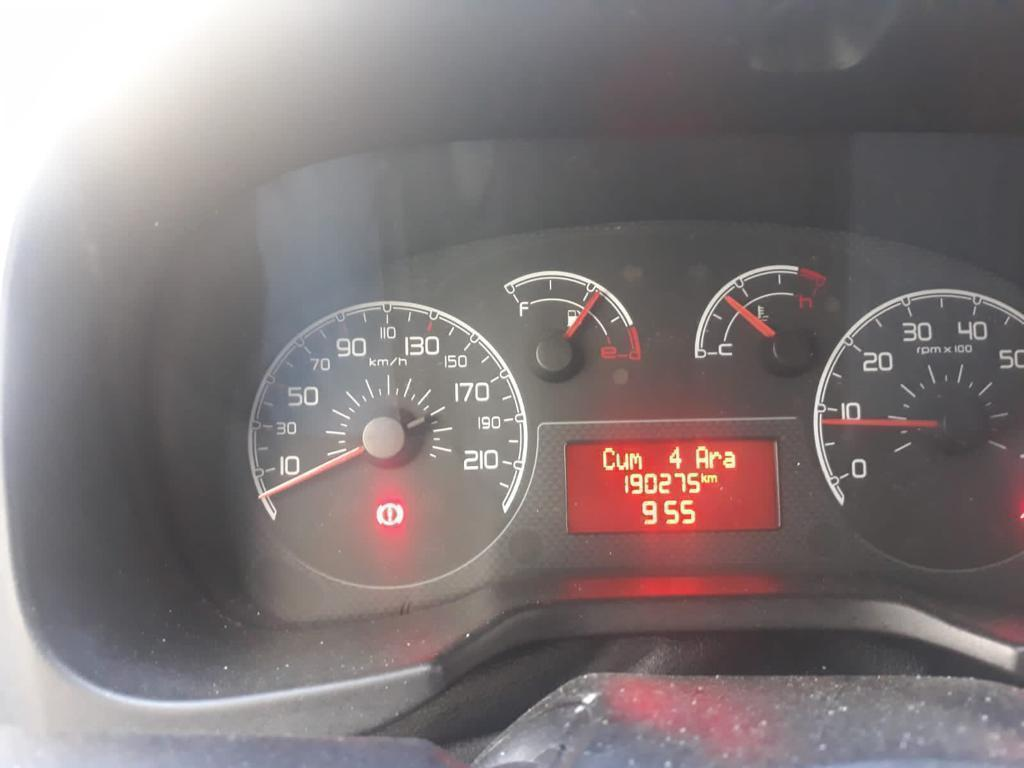0: (643, 472, 657, 495)
1: (620, 472, 629, 494)
2: (658, 472, 672, 495)
4: (665, 444, 683, 469)
5: (662, 498, 679, 525), (680, 497, 696, 525), (687, 471, 700, 494)
7: (672, 471, 686, 494)
9: (639, 499, 657, 525), (629, 473, 643, 495)
X: (693, 443, 708, 470), (601, 445, 615, 472), (615, 451, 629, 471), (722, 449, 736, 469), (709, 448, 722, 469), (629, 450, 642, 471), (707, 472, 718, 484), (699, 471, 707, 484)
odometer: (562, 435, 784, 536)
